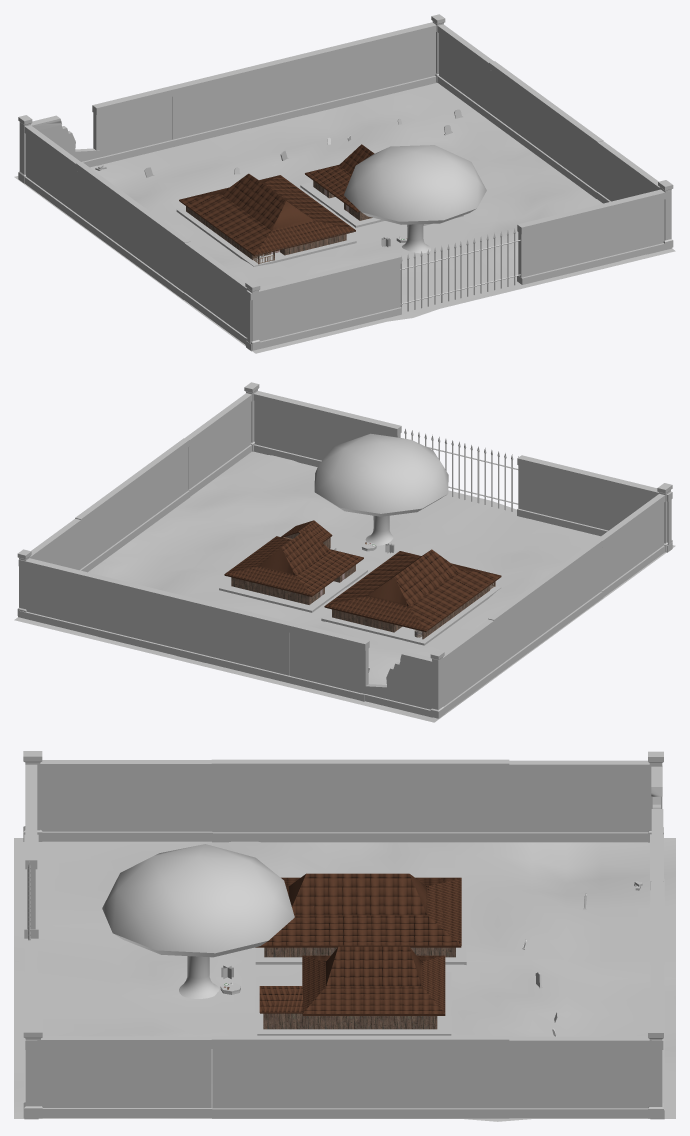
Rendered from Asset Main Building_V4.fbx.
The picture shows the model from 3 angles, top to bottom: view 1: azimuth 30°, elevation 25°; view 2: azimuth 150°, elevation 25°; view 3: azimuth 270°, elevation 25°; orthographic projection. The views are drawn at different scales.
Parts seen in each view (by area): view 1: ground, pohon beringin, main roof_ceilings, Wall_01.003, Wall_01.014, Wall_01.001, Wall_01.011, Wall_01.004, Wall.001, Wall_01.010, Wall_01.015, Wall_01.005 (+14 smaller); view 2: ground, pohon beringin, main roof_ceilings, Wall_01.003, main roof_2, Wall_01.001, Wall_01.011, Wall_01.004, Wall_01.005, Wall.001, Wall.003, Wall_01.015 (+15 smaller); view 3: ground, pohon beringin, Wall.003, Wall.001, main roof_ceilings, Wall.002, Wall_01.008, Wall_01.006, Wall_01.009, Wall_01.007, Wall, main roof_2 (+14 smaller).
Boxes of the visible parts, x1,y1,x2,y2 form: ground: (14,83,675,353); pohon beringin: (344,145,486,253); main roof_ceilings: (179,173,355,256); Wall_01.003: (169,56,296,146); Wall_01.014: (517,206,597,284); Wall_01.001: (92,86,173,165); Wall_01.011: (321,254,401,332); Wall_01.004: (290,39,368,116); Wall.001: (183,242,260,350); Wall_01.010: (246,272,326,351); Wall_01.015: (592,189,672,266); Wall_01.005: (364,22,436,99); ground: (14,451,675,722); pohon beringin: (314,433,448,545); main roof_ceilings: (324,549,501,632); Wall_01.003: (165,592,292,682); main roof_2: (224,529,363,596); Wall_01.001: (288,622,369,701); Wall_01.011: (517,455,596,534); Wall_01.004: (93,575,171,653); Wall_01.005: (18,558,97,635); Wall.001: (597,483,672,597); Wall.003: (184,382,259,496); Wall_01.015: (253,391,326,466); ground: (14,838,675,1121); pohon beringin: (102,844,294,998); Wall.003: (23,1027,212,1118); Wall.001: (23,751,212,841); main roof_ceilings: (255,873,461,947); Wall.002: (504,1027,663,1118); Wall_01.008: (359,1035,509,1118); Wall_01.006: (359,759,509,842); Wall_01.009: (211,1035,361,1118); Wall_01.007: (211,759,361,842); Wall: (504,751,663,842); main roof_2: (302,946,445,1015).
Size of the model in its own units: 85118 by 20442 by 84442.
